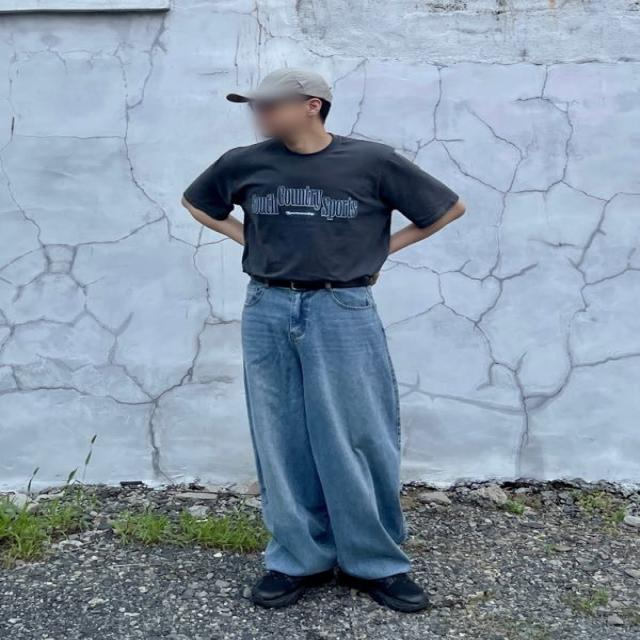denimpants: (240, 281, 415, 583)
shortsleeve: (188, 134, 457, 284)
